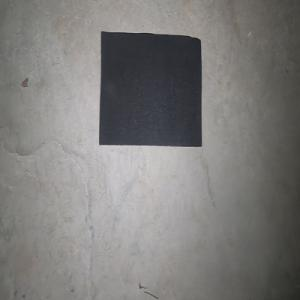PaintChip: (99, 30, 202, 147)
